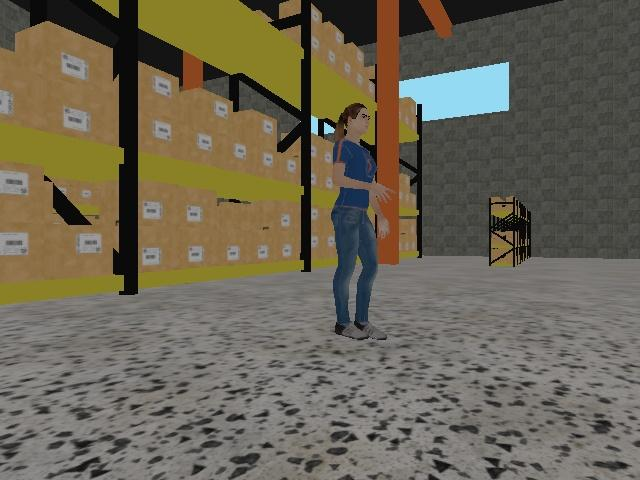person: (330, 101, 397, 343)
